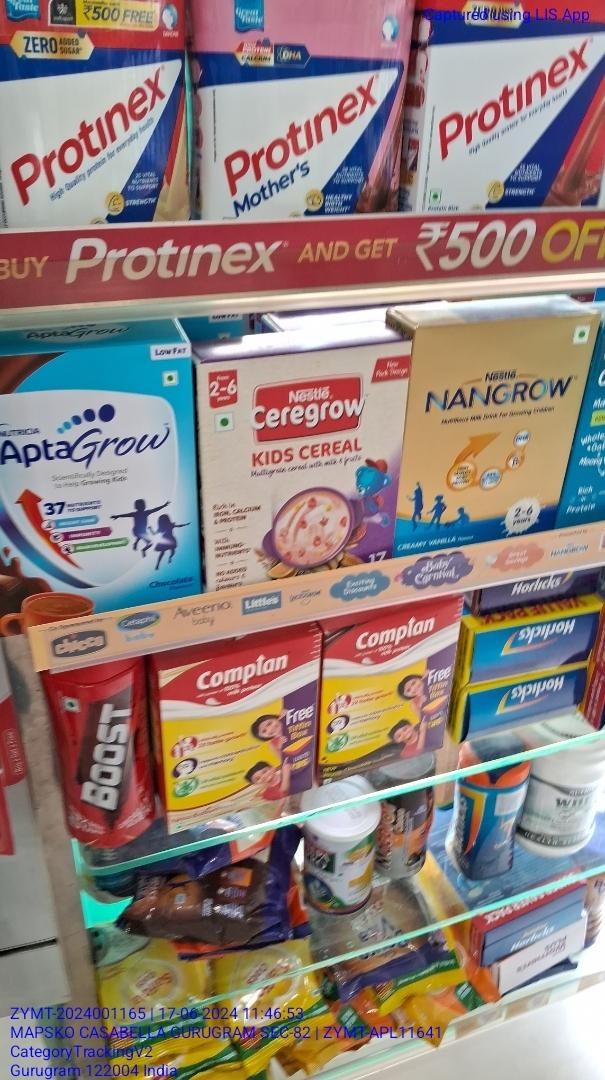COMPLAN_CHOCOLATE_500_GMS_PACK: (323, 630, 449, 756)
COMPLAN_KESAR_BADAM_500_GMS_PACK: (162, 648, 319, 799)
PROTINEX_VANILLA_400_G_JAR: (2, 2, 188, 221)
